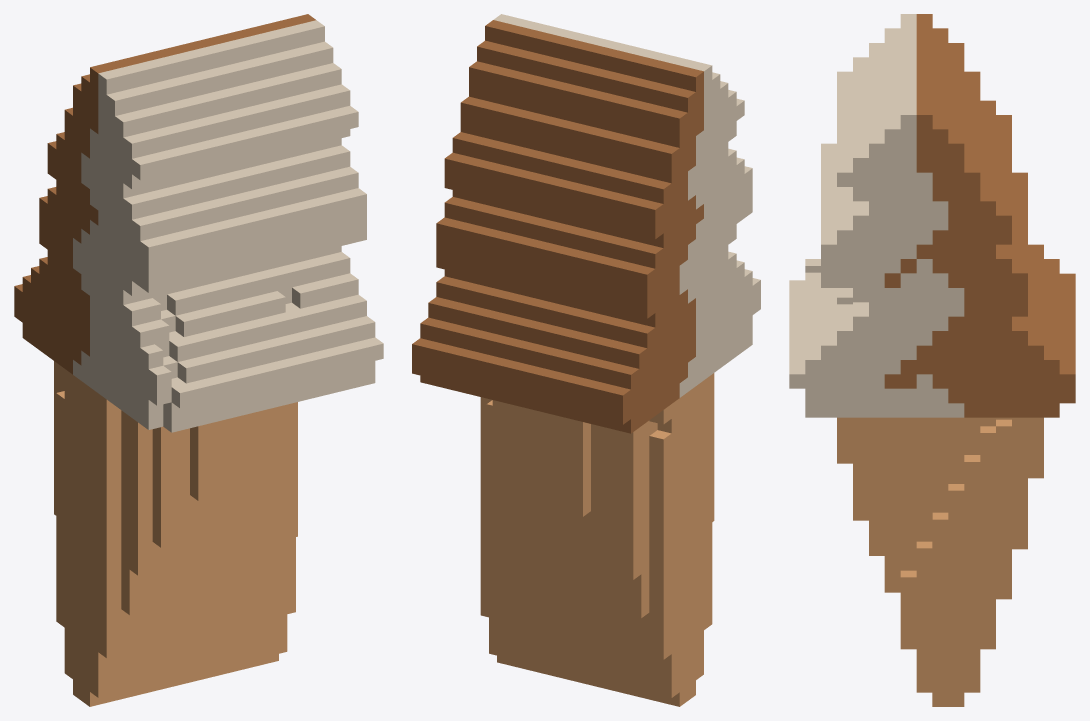
File: Eruption-29.obj
3 renders of one model, left to right at view 1: azimuth 30°, elevation 25°; view 2: azimuth 150°, elevation 25°; view 3: azimuth 270°, elevation 25°, orthographic. The views are drawn at different scales.
Size of the model in its own units: 1.5 by 4.2 by 1.8.
Materials: 1 (1 with a texture image).
